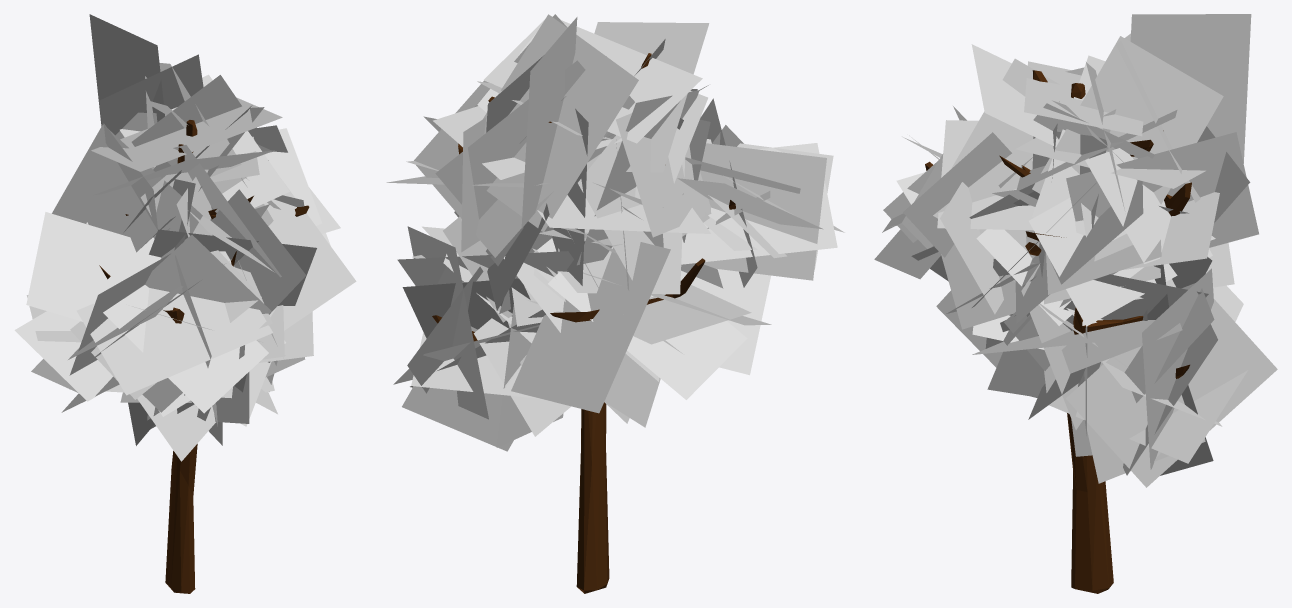
File: tree3 1.fbx
The picture shows the model from 3 angles, left to right: view 1: azimuth 30°, elevation 25°; view 2: azimuth 150°, elevation 25°; view 3: azimuth 270°, elevation 25°; orthographic projection. The views are drawn at different scales.
Visible parts, largest first — view 1: Plane.020, Cube.016; view 2: Plane.020, Cube.016; view 3: Plane.020, Cube.016.
Boxes of the visible parts, x1,y1,x2,y2 form: Plane.020: [14, 14, 356, 461]; Cube.016: [99, 120, 309, 593]; Plane.020: [386, 14, 844, 451]; Cube.016: [432, 53, 735, 593]; Plane.020: [874, 14, 1277, 487]; Cube.016: [925, 70, 1191, 593].
Size of the model in its own units: 52.54 by 81.74 by 52.21.
